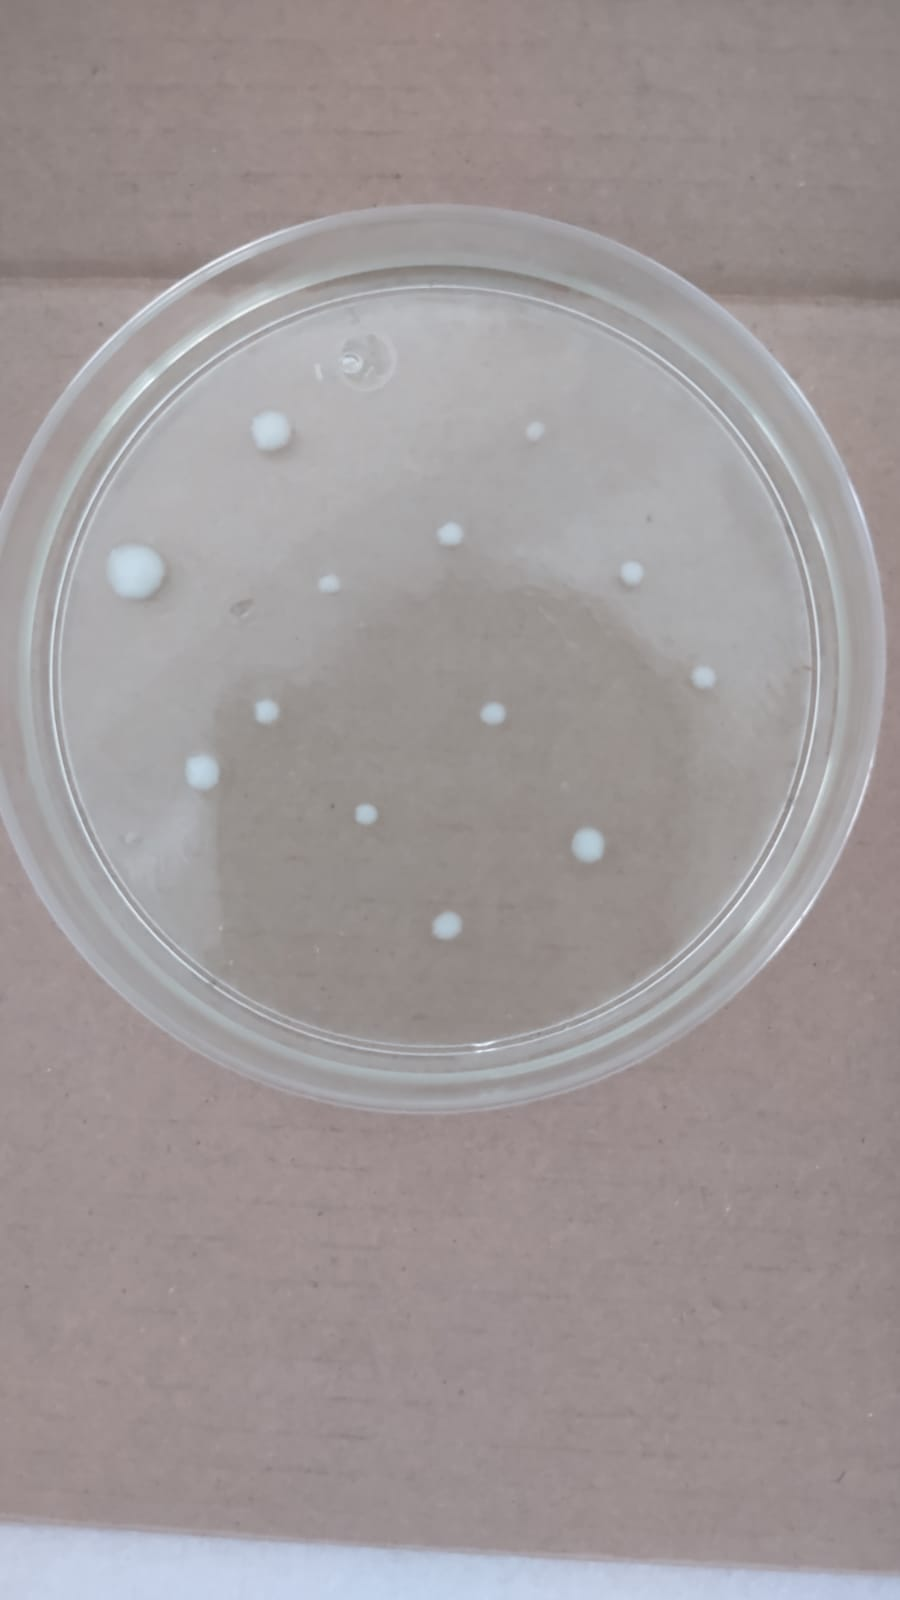Colonia: (101, 543, 174, 597), (248, 407, 300, 455), (573, 819, 605, 876), (427, 903, 473, 943), (186, 756, 226, 791), (433, 518, 476, 551), (475, 698, 511, 734), (251, 695, 289, 727), (616, 558, 649, 586), (351, 802, 389, 825), (690, 663, 718, 692), (313, 575, 346, 597), (524, 421, 551, 445)
